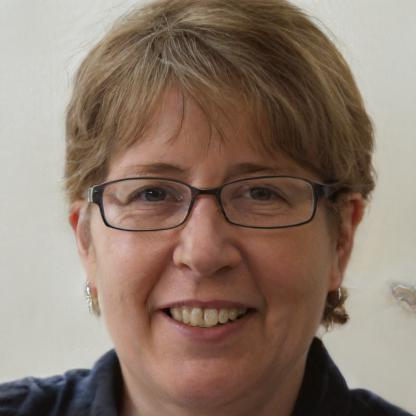glasses: (88, 176, 322, 234)
